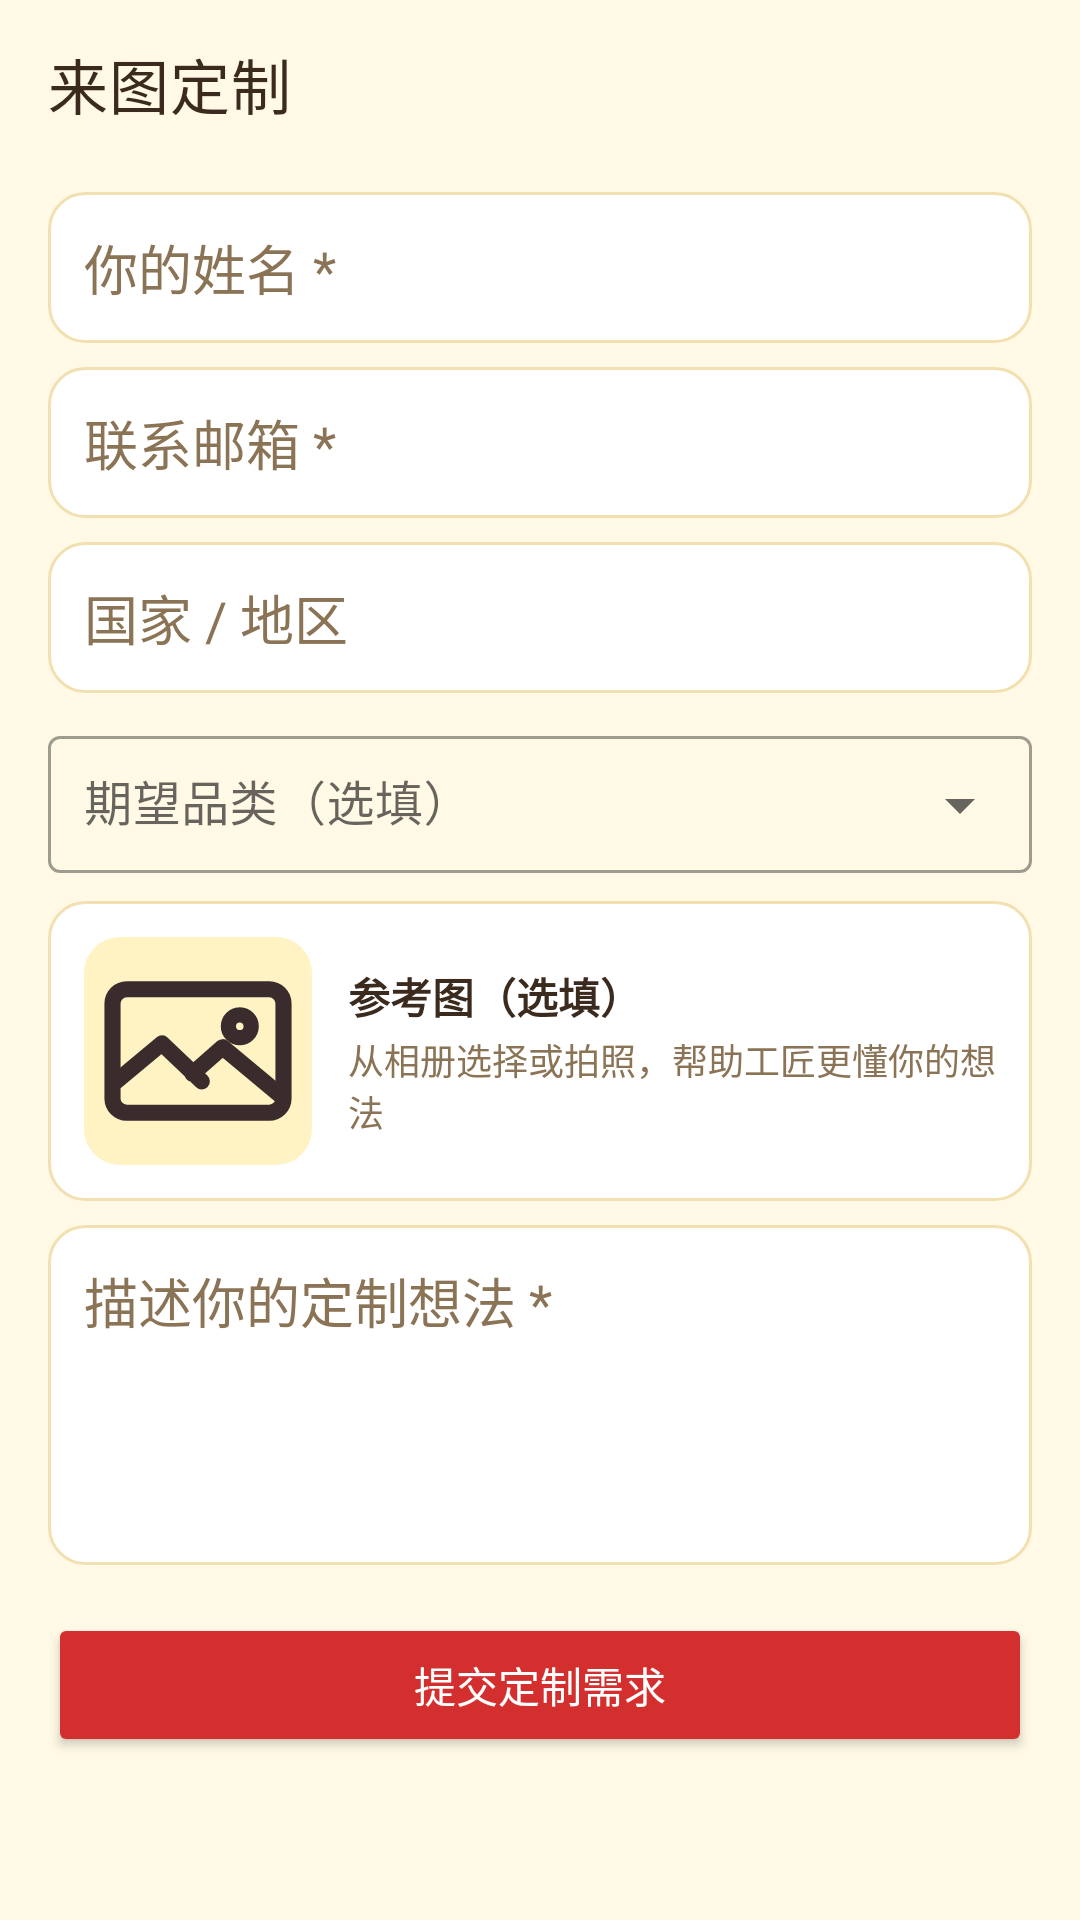

Point at icon controls on the screen. Image size 1080w x 1920h, points as (x,y).
参考图预览: (198,1051)
